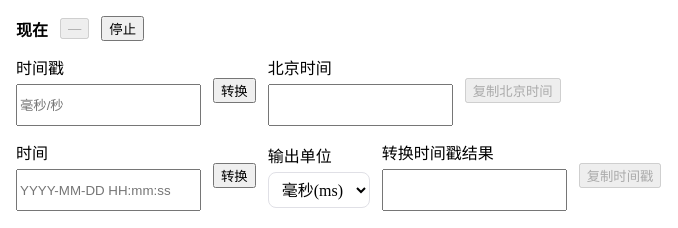
developer and text tools › converts both second timestamps and Beijing time at the Unix epoch
Later steps or results of the test are not shown.
Step 1. Type "0" into the field labelled "时间戳" → (108, 105), box [16, 84, 201, 126]
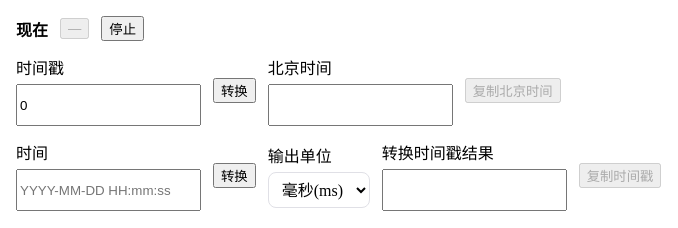
Step 2. Click the button with aria-label "转换为北京时间" → (234, 90), box [213, 78, 256, 103]
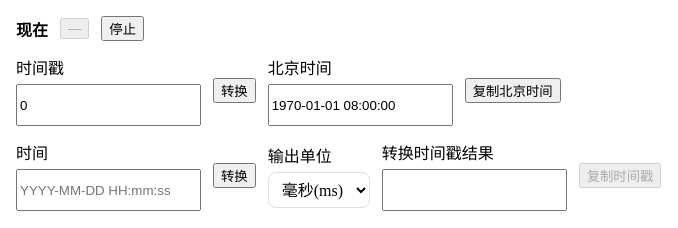
Result: the field labelled "北京时间" holds "1970-01-01 08:00:00" at [268, 84, 453, 126]
